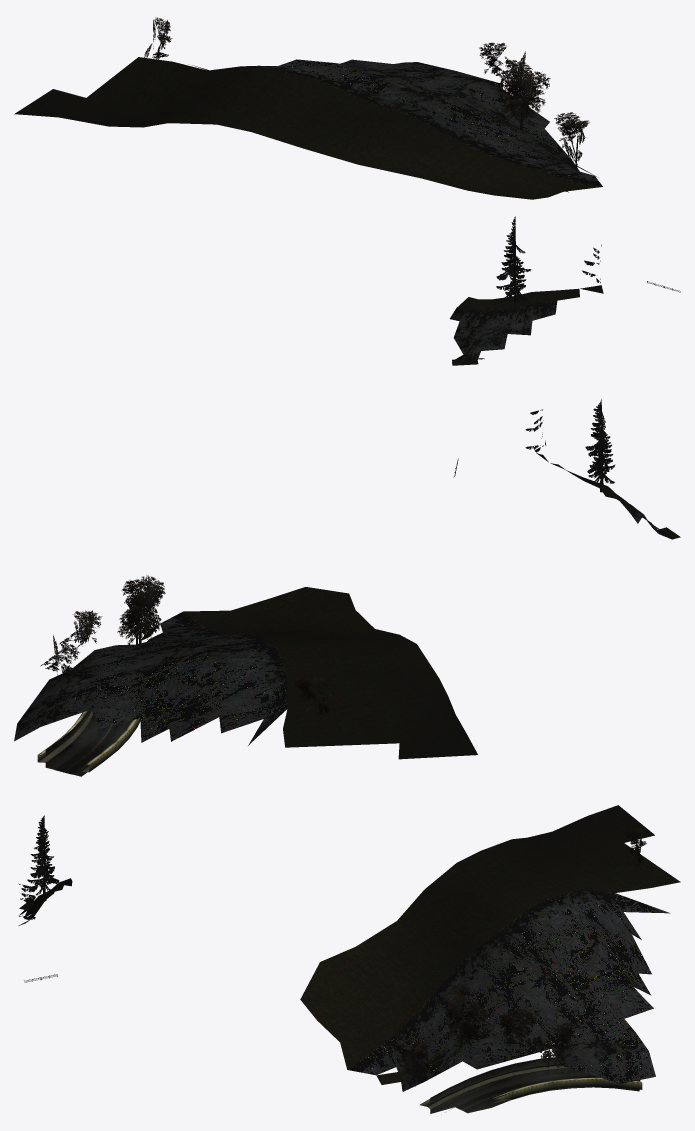
The model's file is cell_16_-6.gltf.
3 renders of one model, top to bottom at view 1: azimuth 30°, elevation 25°; view 2: azimuth 150°, elevation 25°; view 3: azimuth 270°, elevation 25°, orthographic. The views are drawn at different scales.
Parts seen in each view (by area): view 1: cell_16_-6; view 2: cell_16_-6; view 3: cell_16_-6.
Boxes of the visible parts, <box> form: cell_16_-6: <box>14,17,680,365</box>; cell_16_-6: <box>14,399,680,776</box>; cell_16_-6: <box>18,805,680,1114</box>.
Bounding box in the file's own units: 206 × 82.88 × 277.
19 materials, 19 textured.
